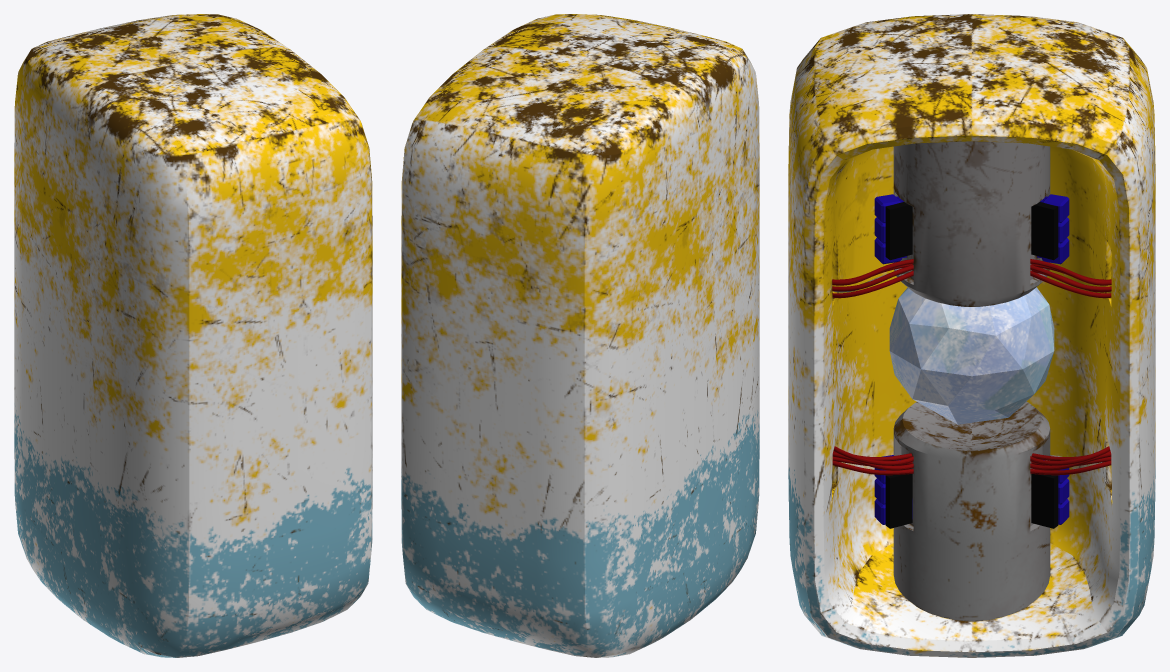
File: Modular_Dungeon_generator_w_power.fbx
3 renders of one model, left to right at view 1: azimuth 30°, elevation 25°; view 2: azimuth 150°, elevation 25°; view 3: azimuth 270°, elevation 25°, orthographic. The views are drawn at different scales.
Parts seen in each view (by area): view 1: Generator_Wall_Energized; view 2: Generator_Wall_Energized; view 3: Generator_Wall_Energized, Energiequelle.
Part boxes in pixels (left/top/right/bottom): Generator_Wall_Energized: left=14, top=14, right=372, bottom=657; Generator_Wall_Energized: left=401, top=14, right=759, bottom=657; Generator_Wall_Energized: left=788, top=14, right=1155, bottom=657; Energiequelle: left=889, top=287, right=1054, bottom=424.
Size of the model in its own units: 33.1 by 77.78 by 45.96.
